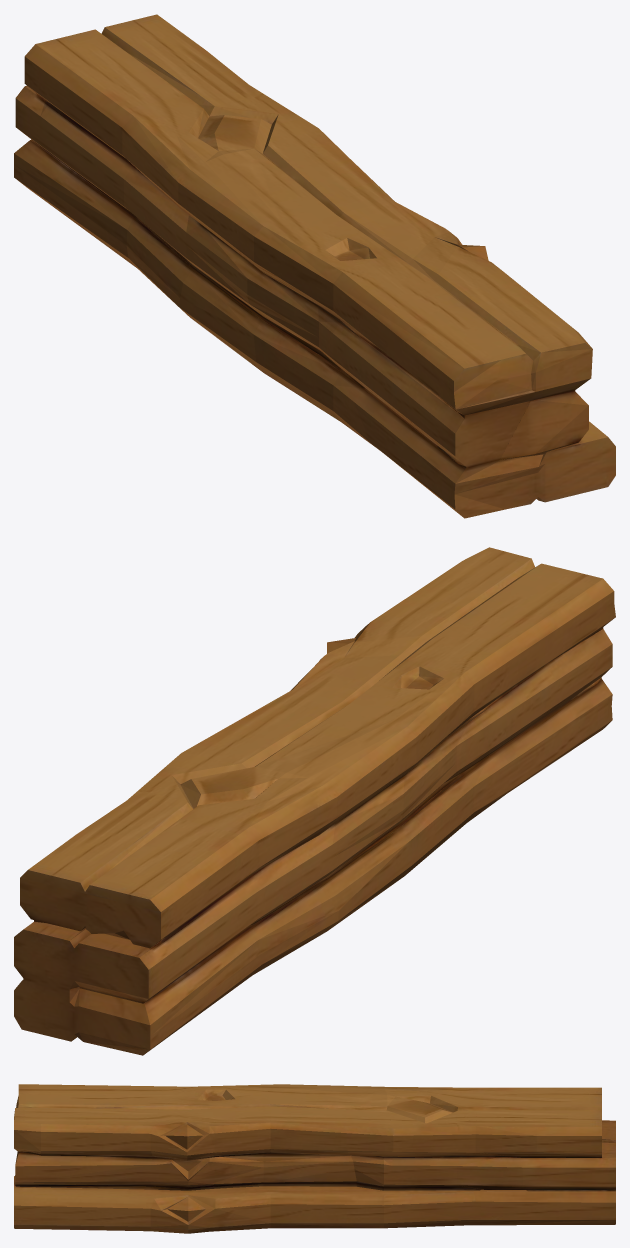
Rendered from wood.glb.
The picture shows the model from 3 angles, top to bottom: view 1: azimuth 30°, elevation 25°; view 2: azimuth 150°, elevation 25°; view 3: azimuth 270°, elevation 25°; orthographic projection. The views are drawn at different scales.
Parts seen in each view (by area): view 1: tripo_node_f5adc282-6e6a-4f42-b65b-8beb28157412; view 2: tripo_node_f5adc282-6e6a-4f42-b65b-8beb28157412; view 3: tripo_node_f5adc282-6e6a-4f42-b65b-8beb28157412.
Part boxes in pixels (<box>): tripo_node_f5adc282-6e6a-4f42-b65b-8beb28157412: <box>14,14,615,518</box>; tripo_node_f5adc282-6e6a-4f42-b65b-8beb28157412: <box>14,547,615,1055</box>; tripo_node_f5adc282-6e6a-4f42-b65b-8beb28157412: <box>14,1084,615,1233</box>.
Bounding box in the file's own units: 0.225 × 0.1859 × 1.
Materials: 1 (1 with a texture image).
